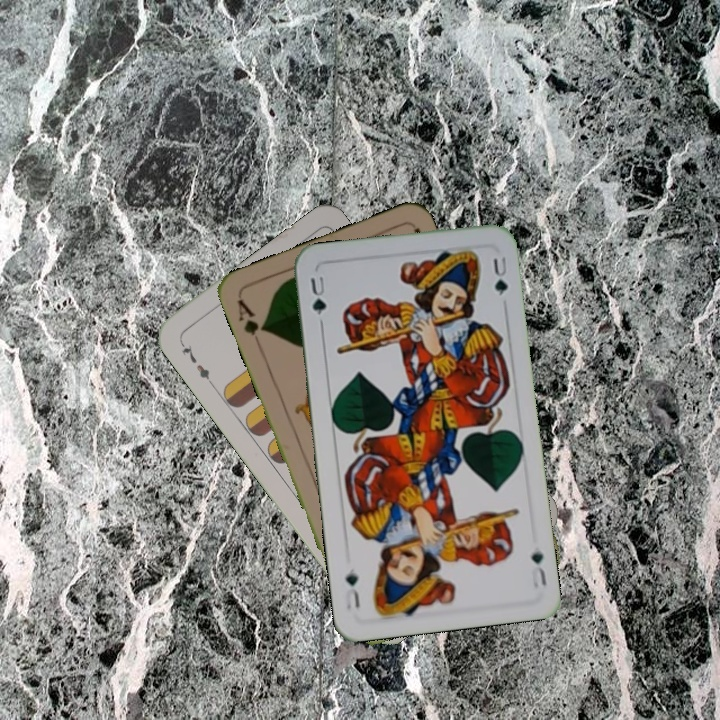E7: (175, 337, 216, 388)
GA: (233, 294, 268, 351)
GU: (306, 272, 329, 318), (527, 546, 549, 591)
